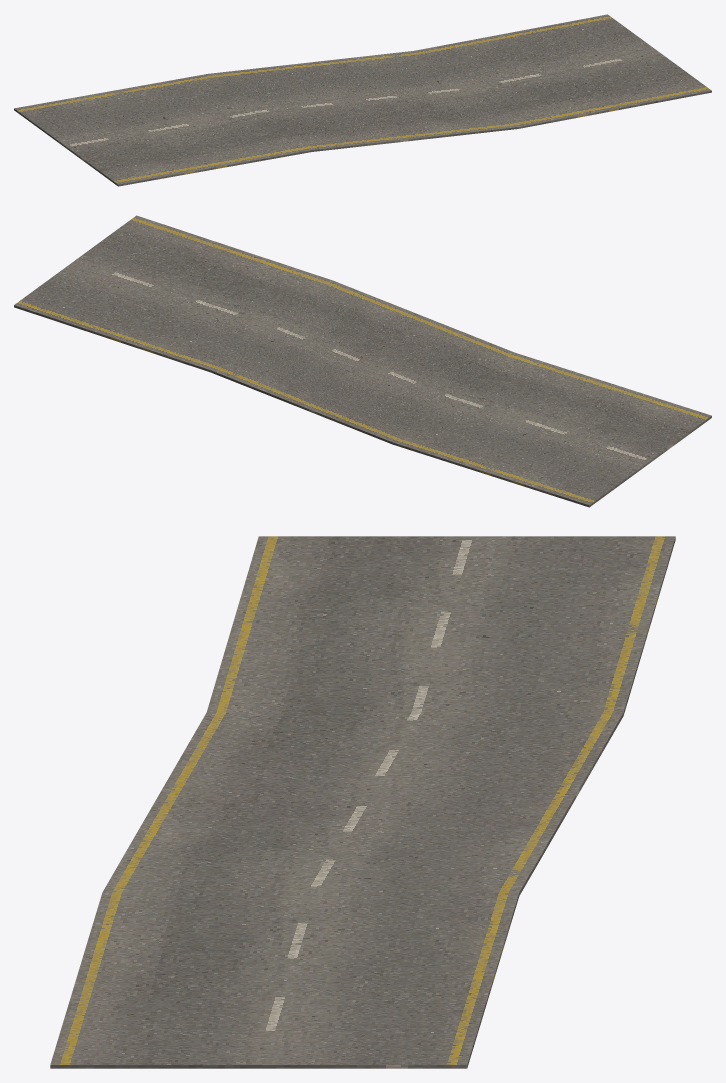
Rendered from road_1_sheer_no_sides.glb.
The picture shows the model from 3 angles, top to bottom: view 1: azimuth 30°, elevation 25°; view 2: azimuth 150°, elevation 25°; view 3: azimuth 270°, elevation 25°; orthographic projection. The views are drawn at different scales.
Parts seen in each view (by area): view 1: road_1_sheer_no_sides; view 2: road_1_sheer_no_sides; view 3: road_1_sheer_no_sides.
Boxes of the visible parts, x1,y1,x2,y2 form: road_1_sheer_no_sides: (14, 14, 711, 186); road_1_sheer_no_sides: (14, 215, 711, 507); road_1_sheer_no_sides: (50, 536, 675, 1068).
Size of the model in its own units: 48 by 0.32 by 24.
1 material, 1 textured.
